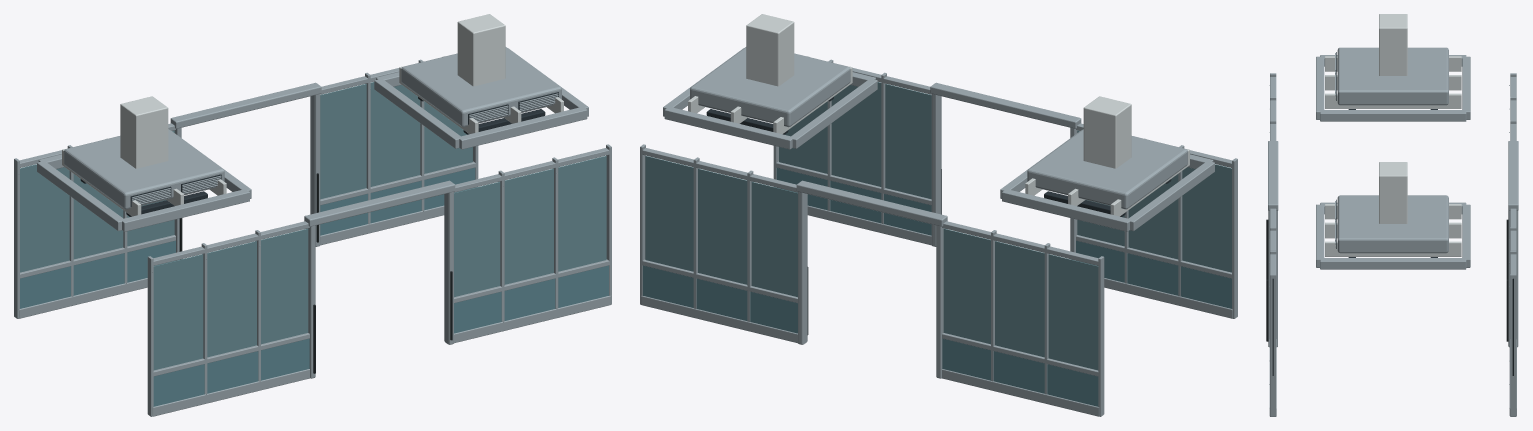
The model's file is SF_E03_Interior.fbx.
3 renders of one model, left to right at view 1: azimuth 30°, elevation 25°; view 2: azimuth 150°, elevation 25°; view 3: azimuth 270°, elevation 25°, orthographic. The views are drawn at different scales.
Parts seen in each view (by area): view 1: SF_E03_Interior; view 2: SF_E03_Interior; view 3: SF_E03_Interior.
Boxes of the visible parts, left/top/right/bottom form: SF_E03_Interior: left=14, top=14, right=611, bottom=416; SF_E03_Interior: left=640, top=14, right=1237, bottom=416; SF_E03_Interior: left=1266, top=14, right=1518, bottom=416.
Bounding box in the file's own units: 936 × 468 × 483.
